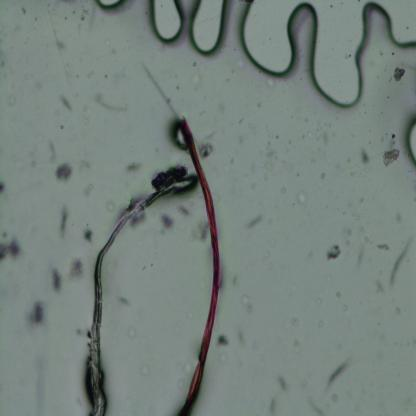Air bubble: (233, 0, 416, 172), (145, 0, 229, 56), (97, 0, 131, 19), (171, 124, 188, 152)
Background material: (342, 212, 389, 262), (318, 354, 354, 394), (386, 236, 412, 288), (90, 81, 125, 116), (152, 160, 188, 191), (181, 66, 212, 95), (78, 148, 96, 196), (23, 296, 48, 330), (0, 235, 26, 263), (50, 260, 67, 294), (118, 152, 142, 176), (362, 276, 386, 300), (188, 216, 209, 242), (199, 133, 217, 160), (99, 192, 119, 216), (56, 204, 71, 236), (382, 146, 403, 168), (290, 188, 310, 211), (70, 256, 88, 281), (53, 27, 69, 55), (52, 161, 72, 183), (137, 356, 156, 378), (326, 239, 344, 262), (158, 207, 174, 232), (246, 210, 263, 232), (57, 91, 73, 112), (273, 368, 287, 392), (48, 141, 62, 164), (358, 144, 372, 166), (392, 62, 406, 83), (82, 222, 95, 243), (243, 293, 255, 314), (126, 319, 139, 337), (217, 328, 228, 348), (126, 288, 132, 306), (82, 9, 88, 20), (323, 172, 327, 184)
Cellulose filter fibre: (78, 164, 196, 414)
Cotton: (178, 115, 224, 416)
